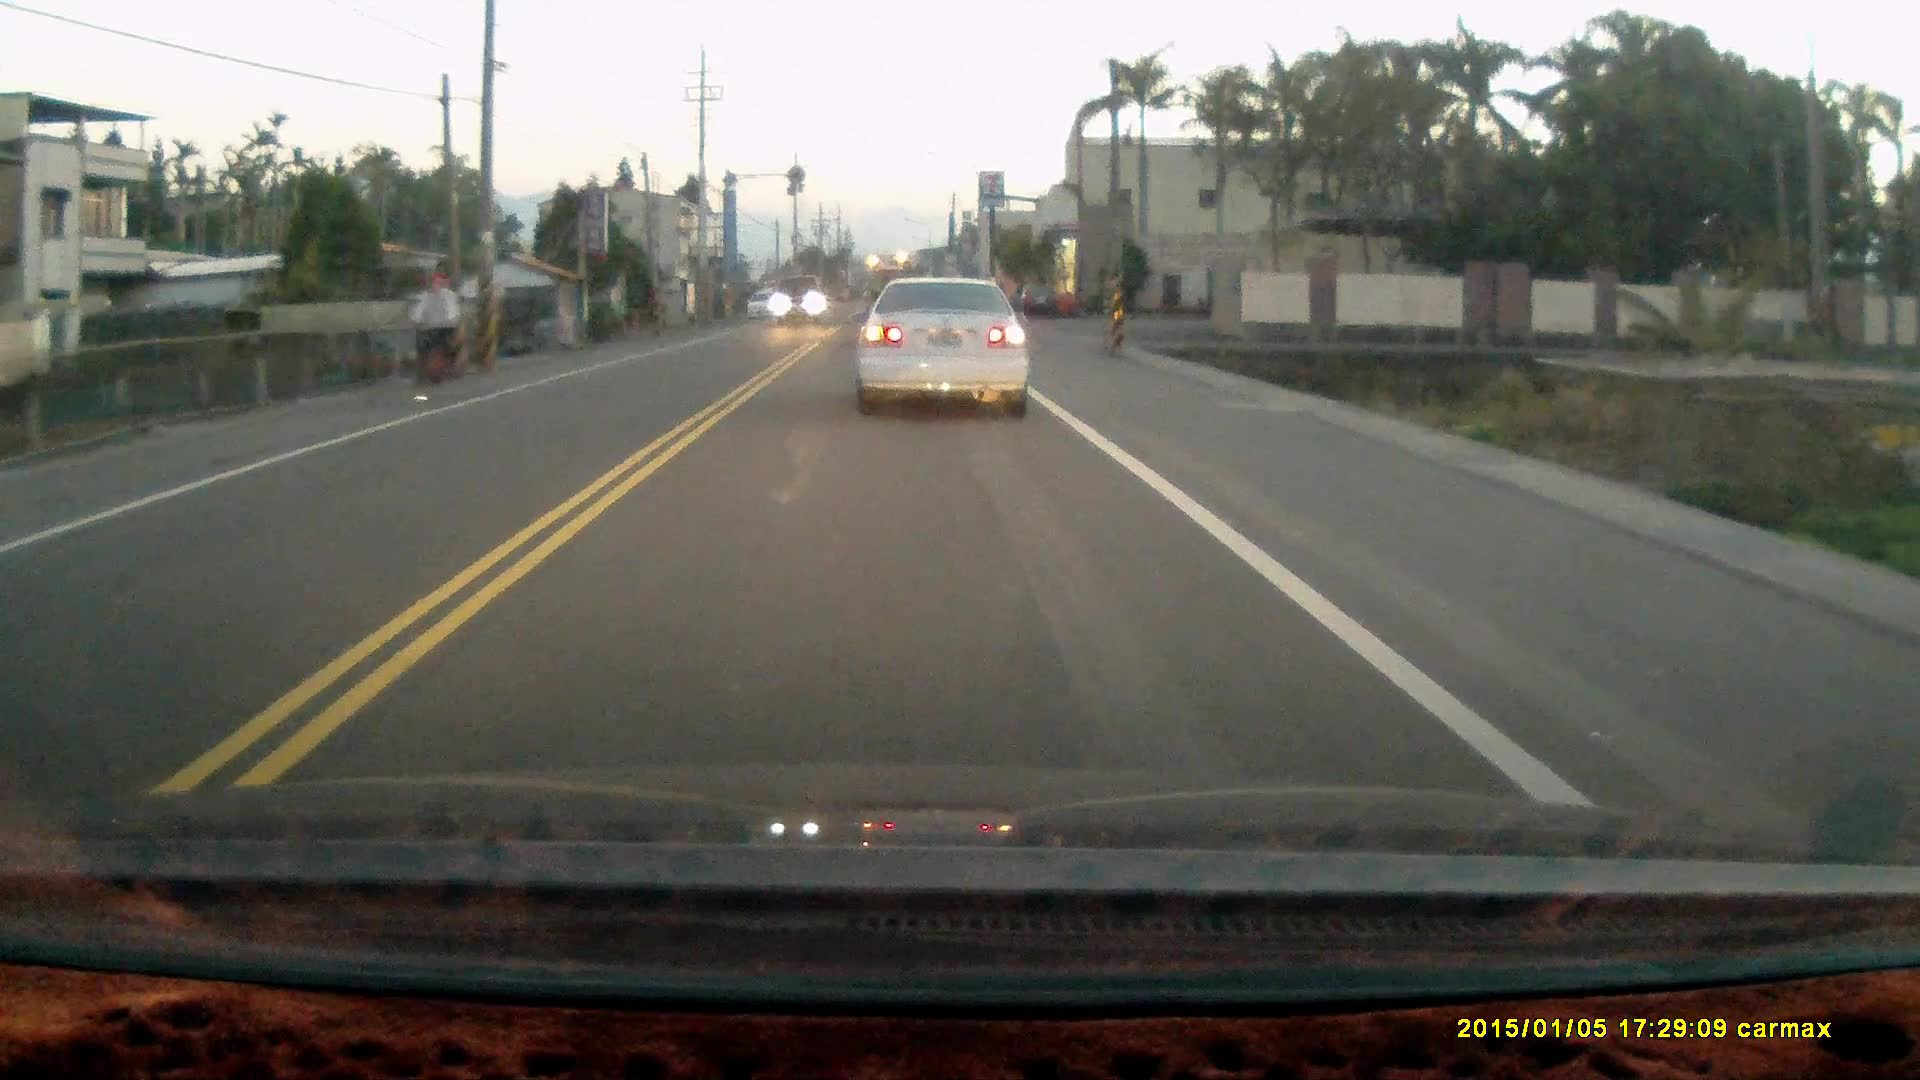rider: (409, 268, 464, 402)
vehicle: (857, 274, 1034, 417), (773, 271, 827, 324), (1014, 281, 1061, 319), (747, 292, 774, 321)
